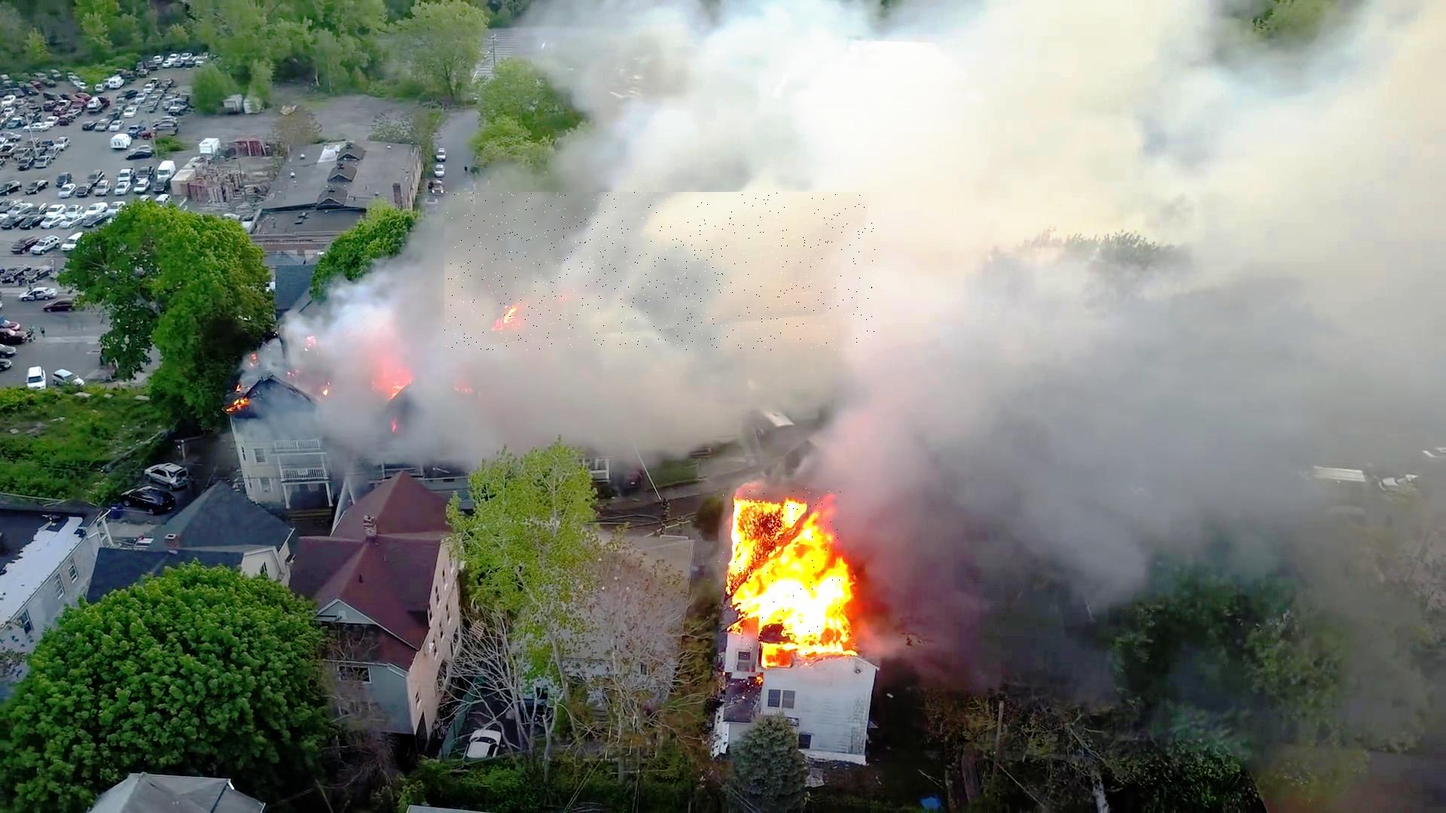fire: (719, 488, 843, 674)
smoke: (445, 192, 876, 350)
